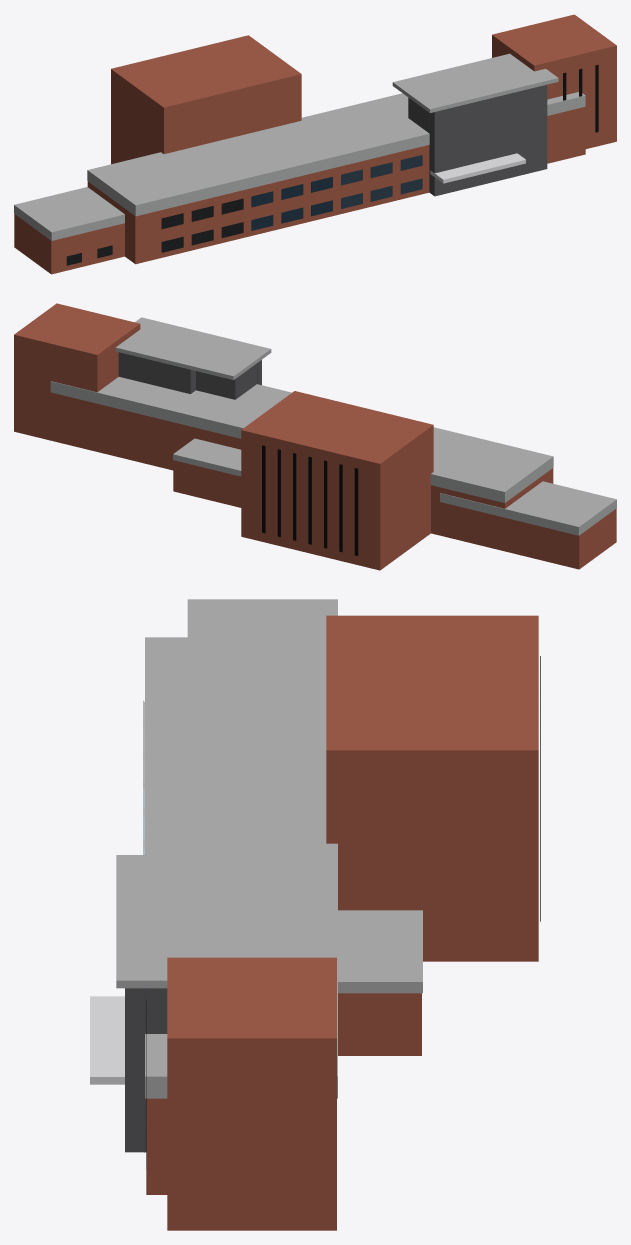
3 renders of one model, top to bottom at view 1: azimuth 30°, elevation 25°; view 2: azimuth 150°, elevation 25°; view 3: azimuth 270°, elevation 25°, orthographic. The views are drawn at different scales.
Parts seen in each view (by area): view 1: ParapetBand, BackTallBlock, MainWing, RightTower, AtriumBody2, AtriumCap, FrontWindowsMain, AtriumBody1, LeftConnectorBand, LeftConnector, EntranceCanopy, TowerSlitWindows; view 2: BackTallBlock, ParapetBand, MainWing, RightTower, AtriumCap, LeftConnectorBand, LeftConnector, BackWindowStrips, BackEntrance, AtriumBody2, BackEntranceBand, AtriumBody1; view 3: BackTallBlock, ParapetBand, RightTower, AtriumCap, BackEntranceBand, LeftConnectorBand, BackEntrance, AtriumBody2, EntranceCanopy, MainWing.
Boxes of the visible parts, left/top/right/bottom form: ParapetBand: left=87, top=92, right=585, bottom=216; BackTallBlock: left=111, top=35, right=301, bottom=164; MainWing: left=87, top=106, right=585, bottom=264; RightTower: left=492, top=14, right=616, bottom=148; AtriumBody2: left=473, top=84, right=547, bottom=186; AtriumCap: left=392, top=53, right=558, bottom=112; FrontWindowsMain: left=161, top=155, right=422, bottom=252; AtriumBody1: left=408, top=97, right=473, bottom=196; LeftConnectorBand: left=14, top=187, right=124, bottom=240; LeftConnector: left=14, top=214, right=124, bottom=274; EntranceCanopy: left=430, top=153, right=525, bottom=183; TowerSlitWindows: left=563, top=64, right=598, bottom=132; BackTallBlock: left=241, top=391, right=433, bottom=570; ParapetBand: left=50, top=377, right=553, bottom=502; MainWing: left=51, top=392, right=553, bottom=551; RightTower: left=14, top=303, right=140, bottom=451; AtriumCap: left=115, top=317, right=271, bottom=380; LeftConnectorBand: left=440, top=481, right=616, bottom=535; LeftConnector: left=505, top=508, right=616, bottom=569; BackWindowStrips: left=262, top=445, right=358, bottom=555; BackEntrance: left=173, top=460, right=241, bottom=507; AtriumBody2: left=118, top=352, right=195, bottom=393; BackEntranceBand: left=173, top=438, right=241, bottom=476; AtriumBody1: left=196, top=360, right=261, bottom=399; BackTallBlock: left=326, top=615, right=538, bottom=961; ParapetBand: left=145, top=637, right=337, bottom=1098; RightTower: left=167, top=957, right=336, bottom=1230; AtriumCap: left=116, top=855, right=264, bottom=988; BackEntranceBand: left=338, top=910, right=422, bottom=993; LeftConnectorBand: left=187, top=599, right=337, bottom=637; BackEntrance: left=338, top=993, right=421, bottom=1055; AtriumBody2: left=125, top=988, right=167, bottom=1152; EntranceCanopy: left=90, top=996, right=124, bottom=1084; MainWing: left=146, top=1098, right=167, bottom=1194.
Bounding box in the file's own units: 122 × 22.03 × 42.53.
Materials: 7 (5 with a texture image).
